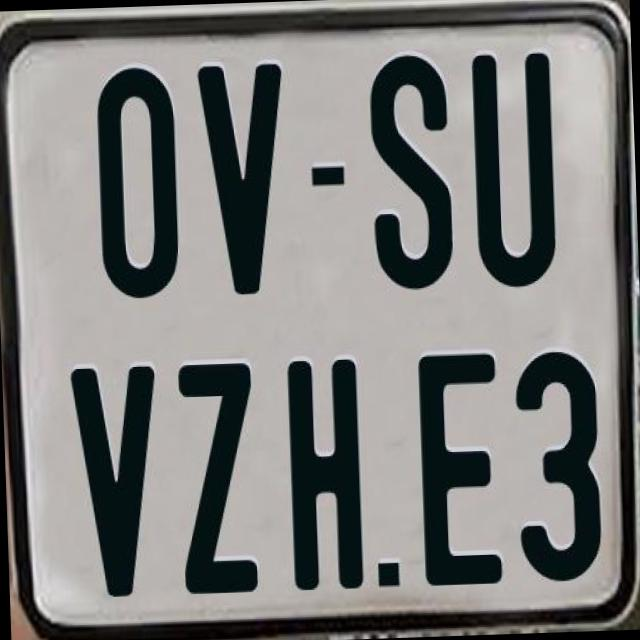0: (92, 64, 180, 306)
3: (510, 350, 600, 592)
E: (416, 352, 510, 593)
H: (283, 356, 362, 588)
S: (368, 53, 461, 297)
U: (470, 51, 560, 289)
V: (195, 62, 295, 294), (67, 364, 161, 596)
Z: (178, 359, 258, 590)
